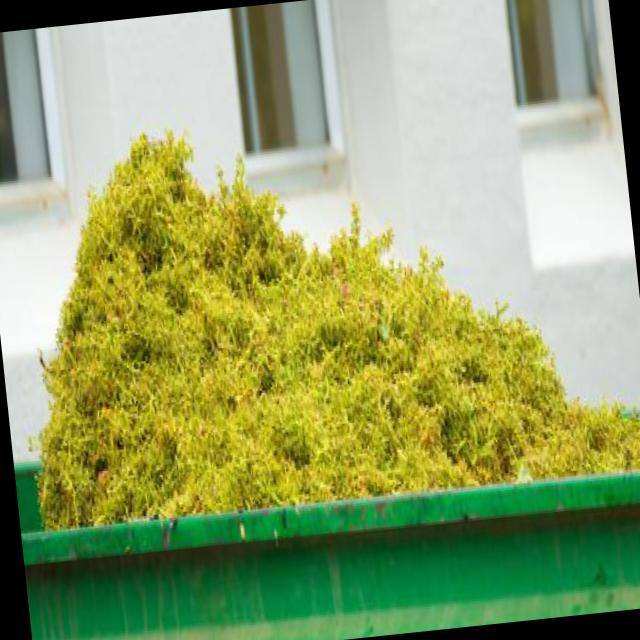paper: (108, 230, 322, 414)
